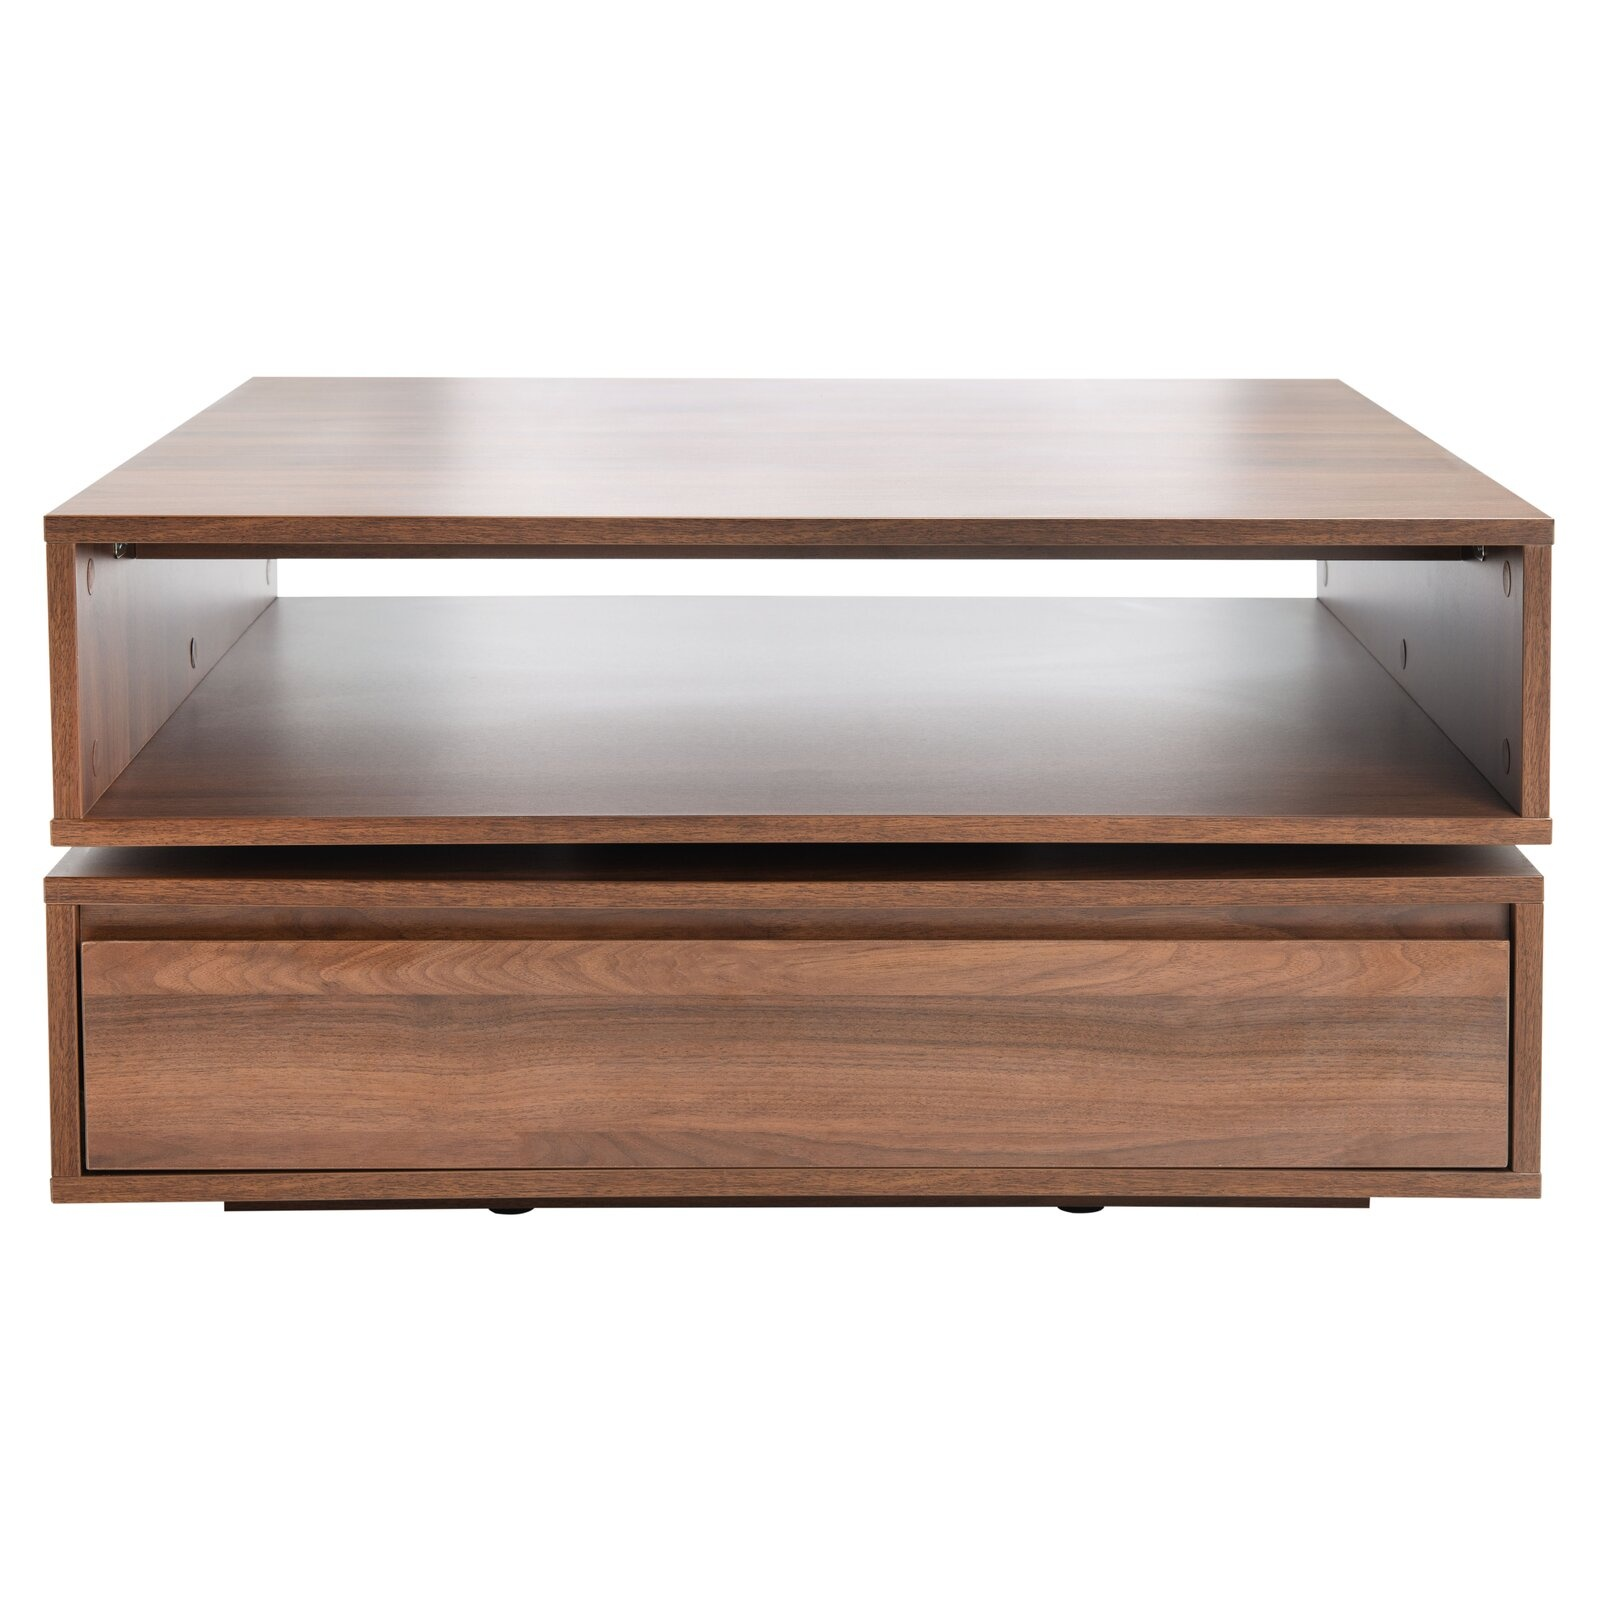obstacle: (45, 379, 1552, 1207)
